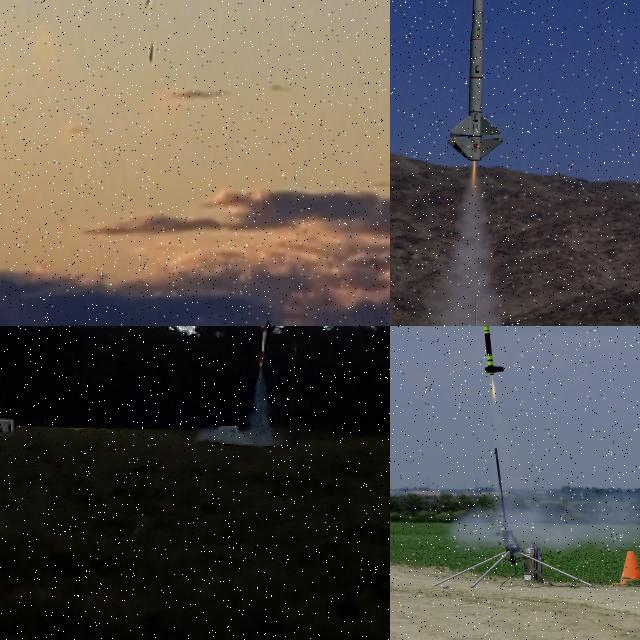Rocket: (445, 0, 505, 161), (483, 326, 504, 375), (257, 326, 268, 366), (149, 43, 153, 62)
